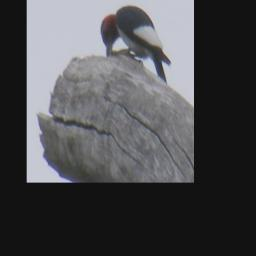Woodpecker: (97, 3, 174, 85)
